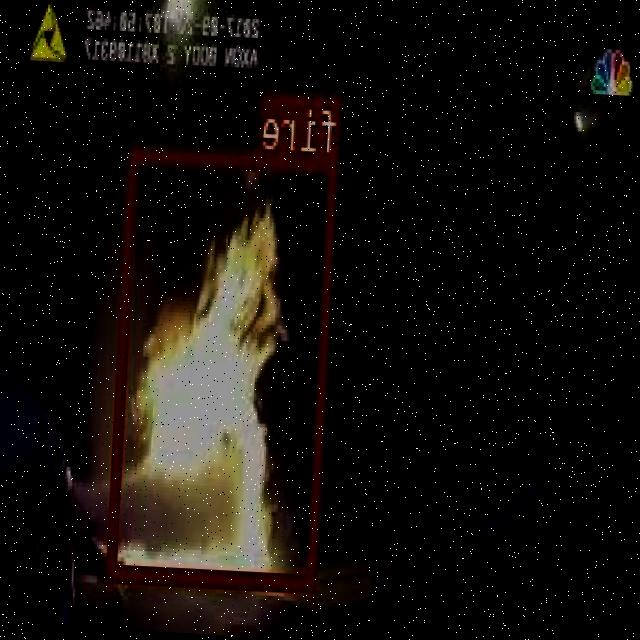fire: (108, 146, 341, 590)
